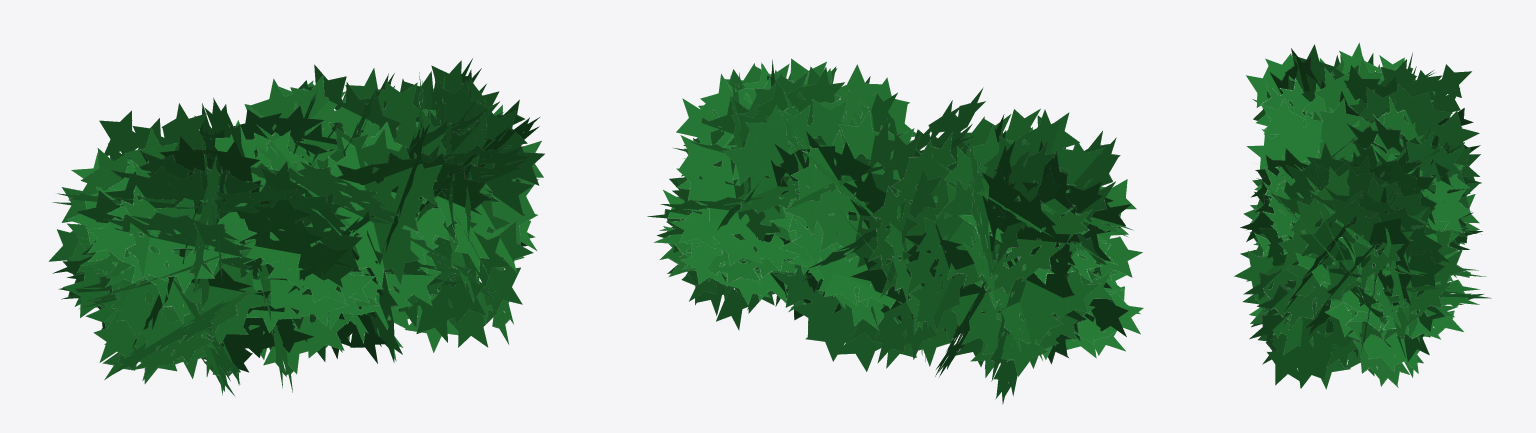
Rendered from tetean.fbx.
The picture shows the model from 3 angles, left to right: view 1: azimuth 30°, elevation 25°; view 2: azimuth 150°, elevation 25°; view 3: azimuth 270°, elevation 25°; orthographic projection. The views are drawn at different scales.
Parts seen in each view (by area): view 1: Plane.331; view 2: Plane.331; view 3: Plane.331.
Part boxes in pixels (bbox=[...]): Plane.331: bbox=[48, 58, 544, 395]; Plane.331: bbox=[647, 58, 1143, 404]; Plane.331: bbox=[1234, 42, 1491, 389].
Bounding box in the file's own units: 510 × 311 × 314.
